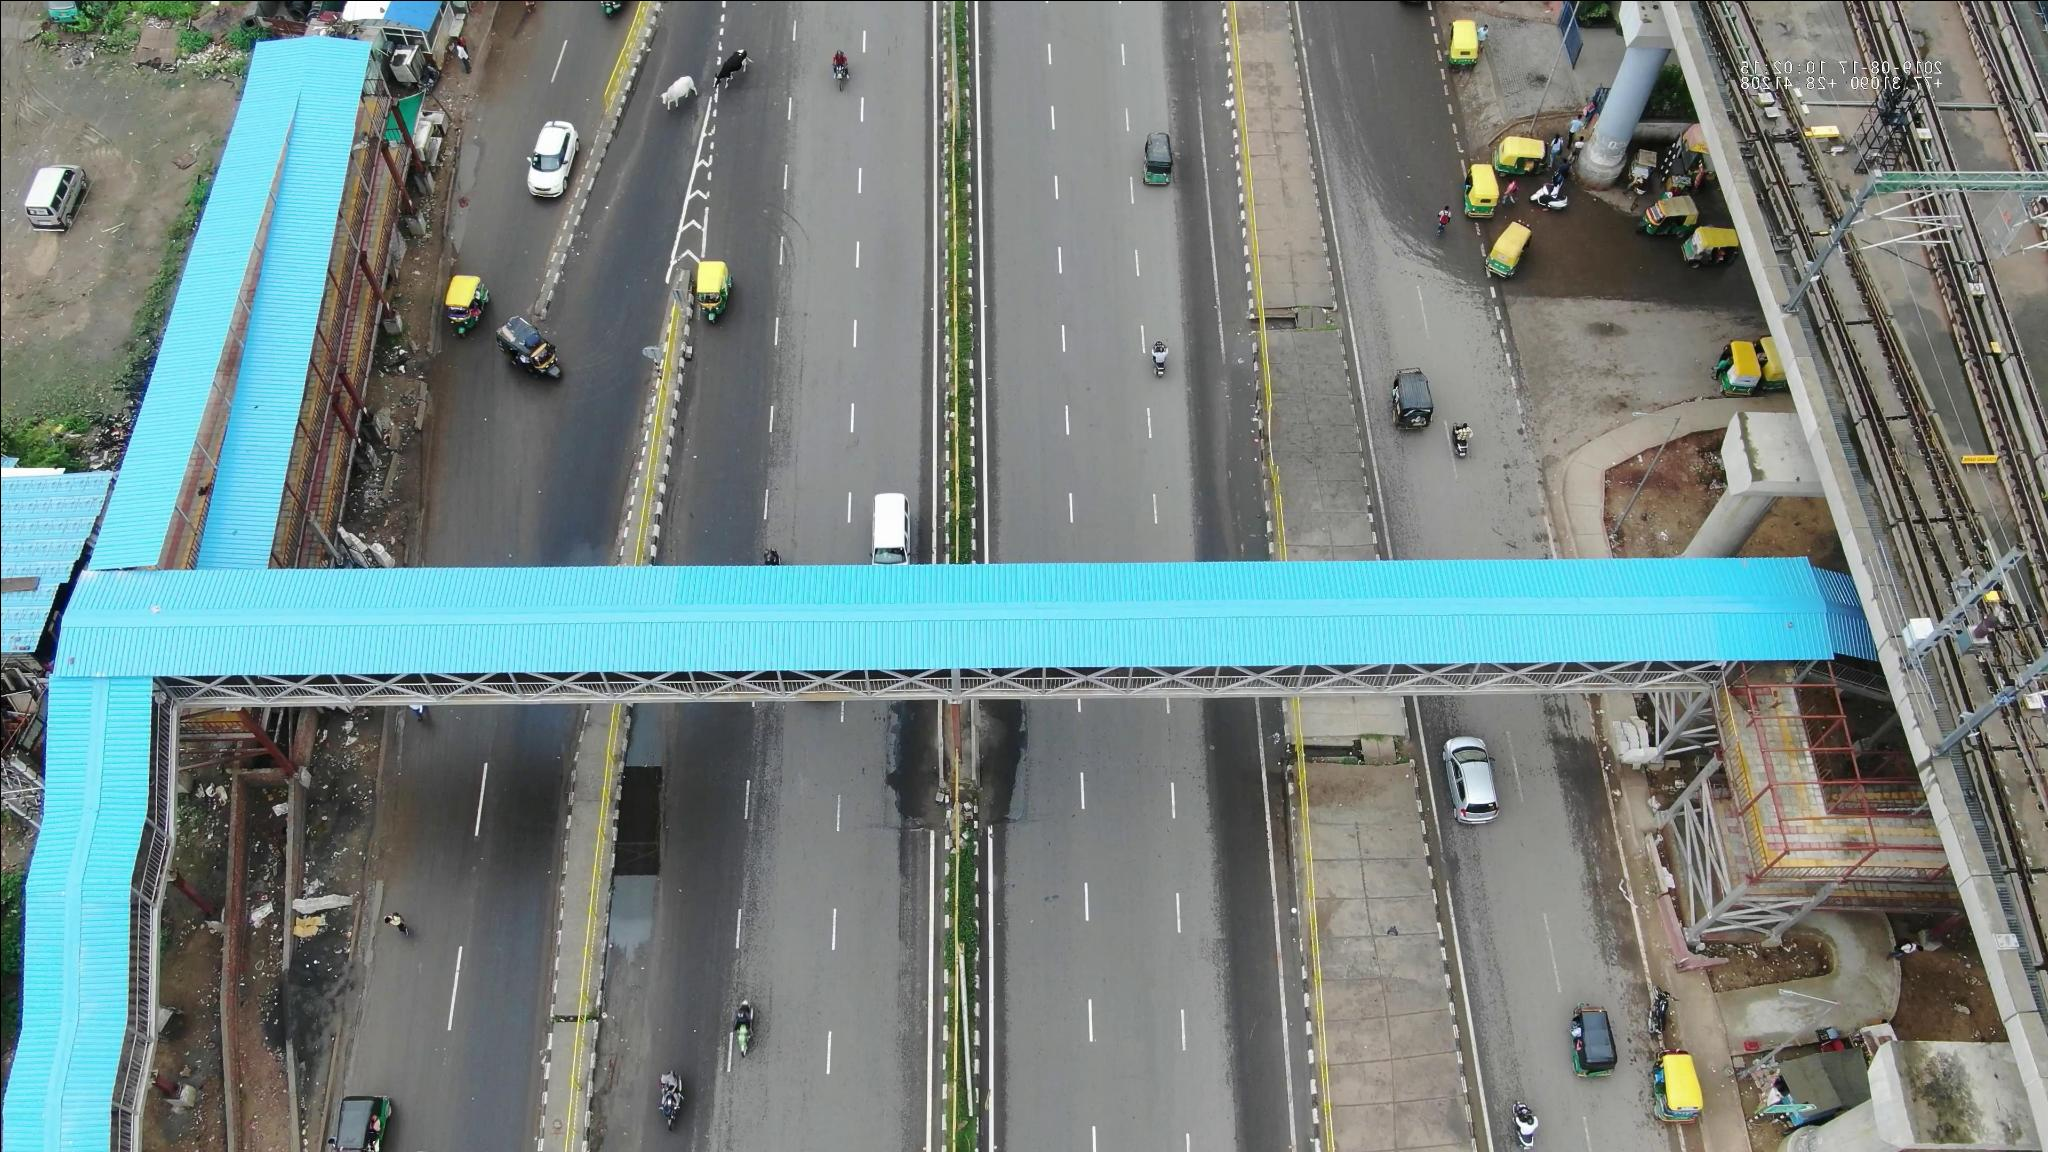Waterlogging: (601, 709, 682, 973), (580, 39, 667, 232), (284, 899, 363, 1100)
